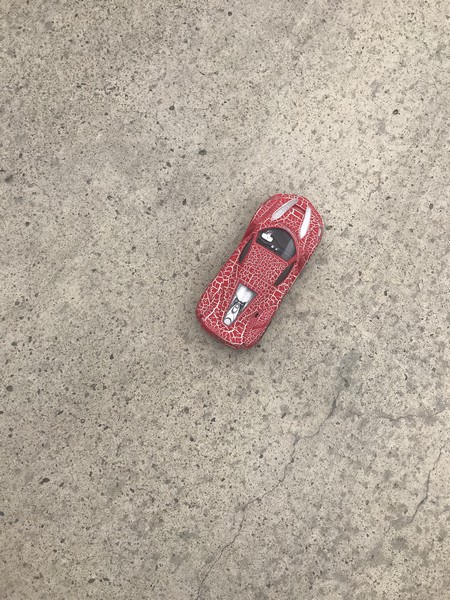RC: (193, 194, 322, 350)
